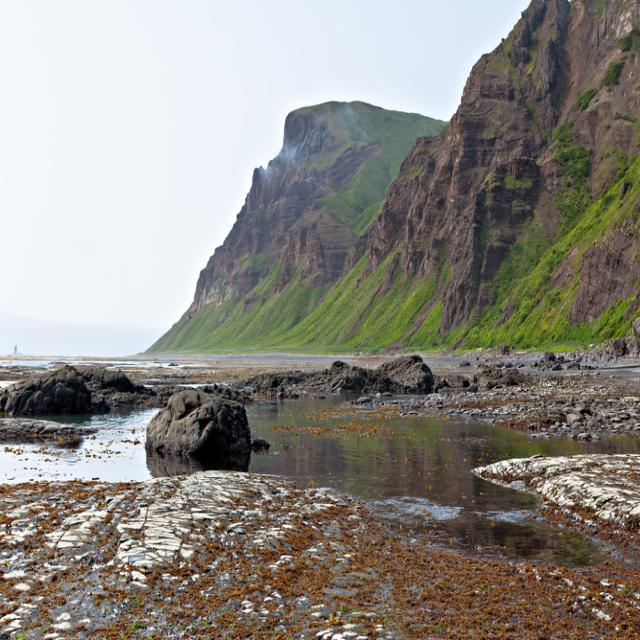reef: (19, 361, 278, 516)
